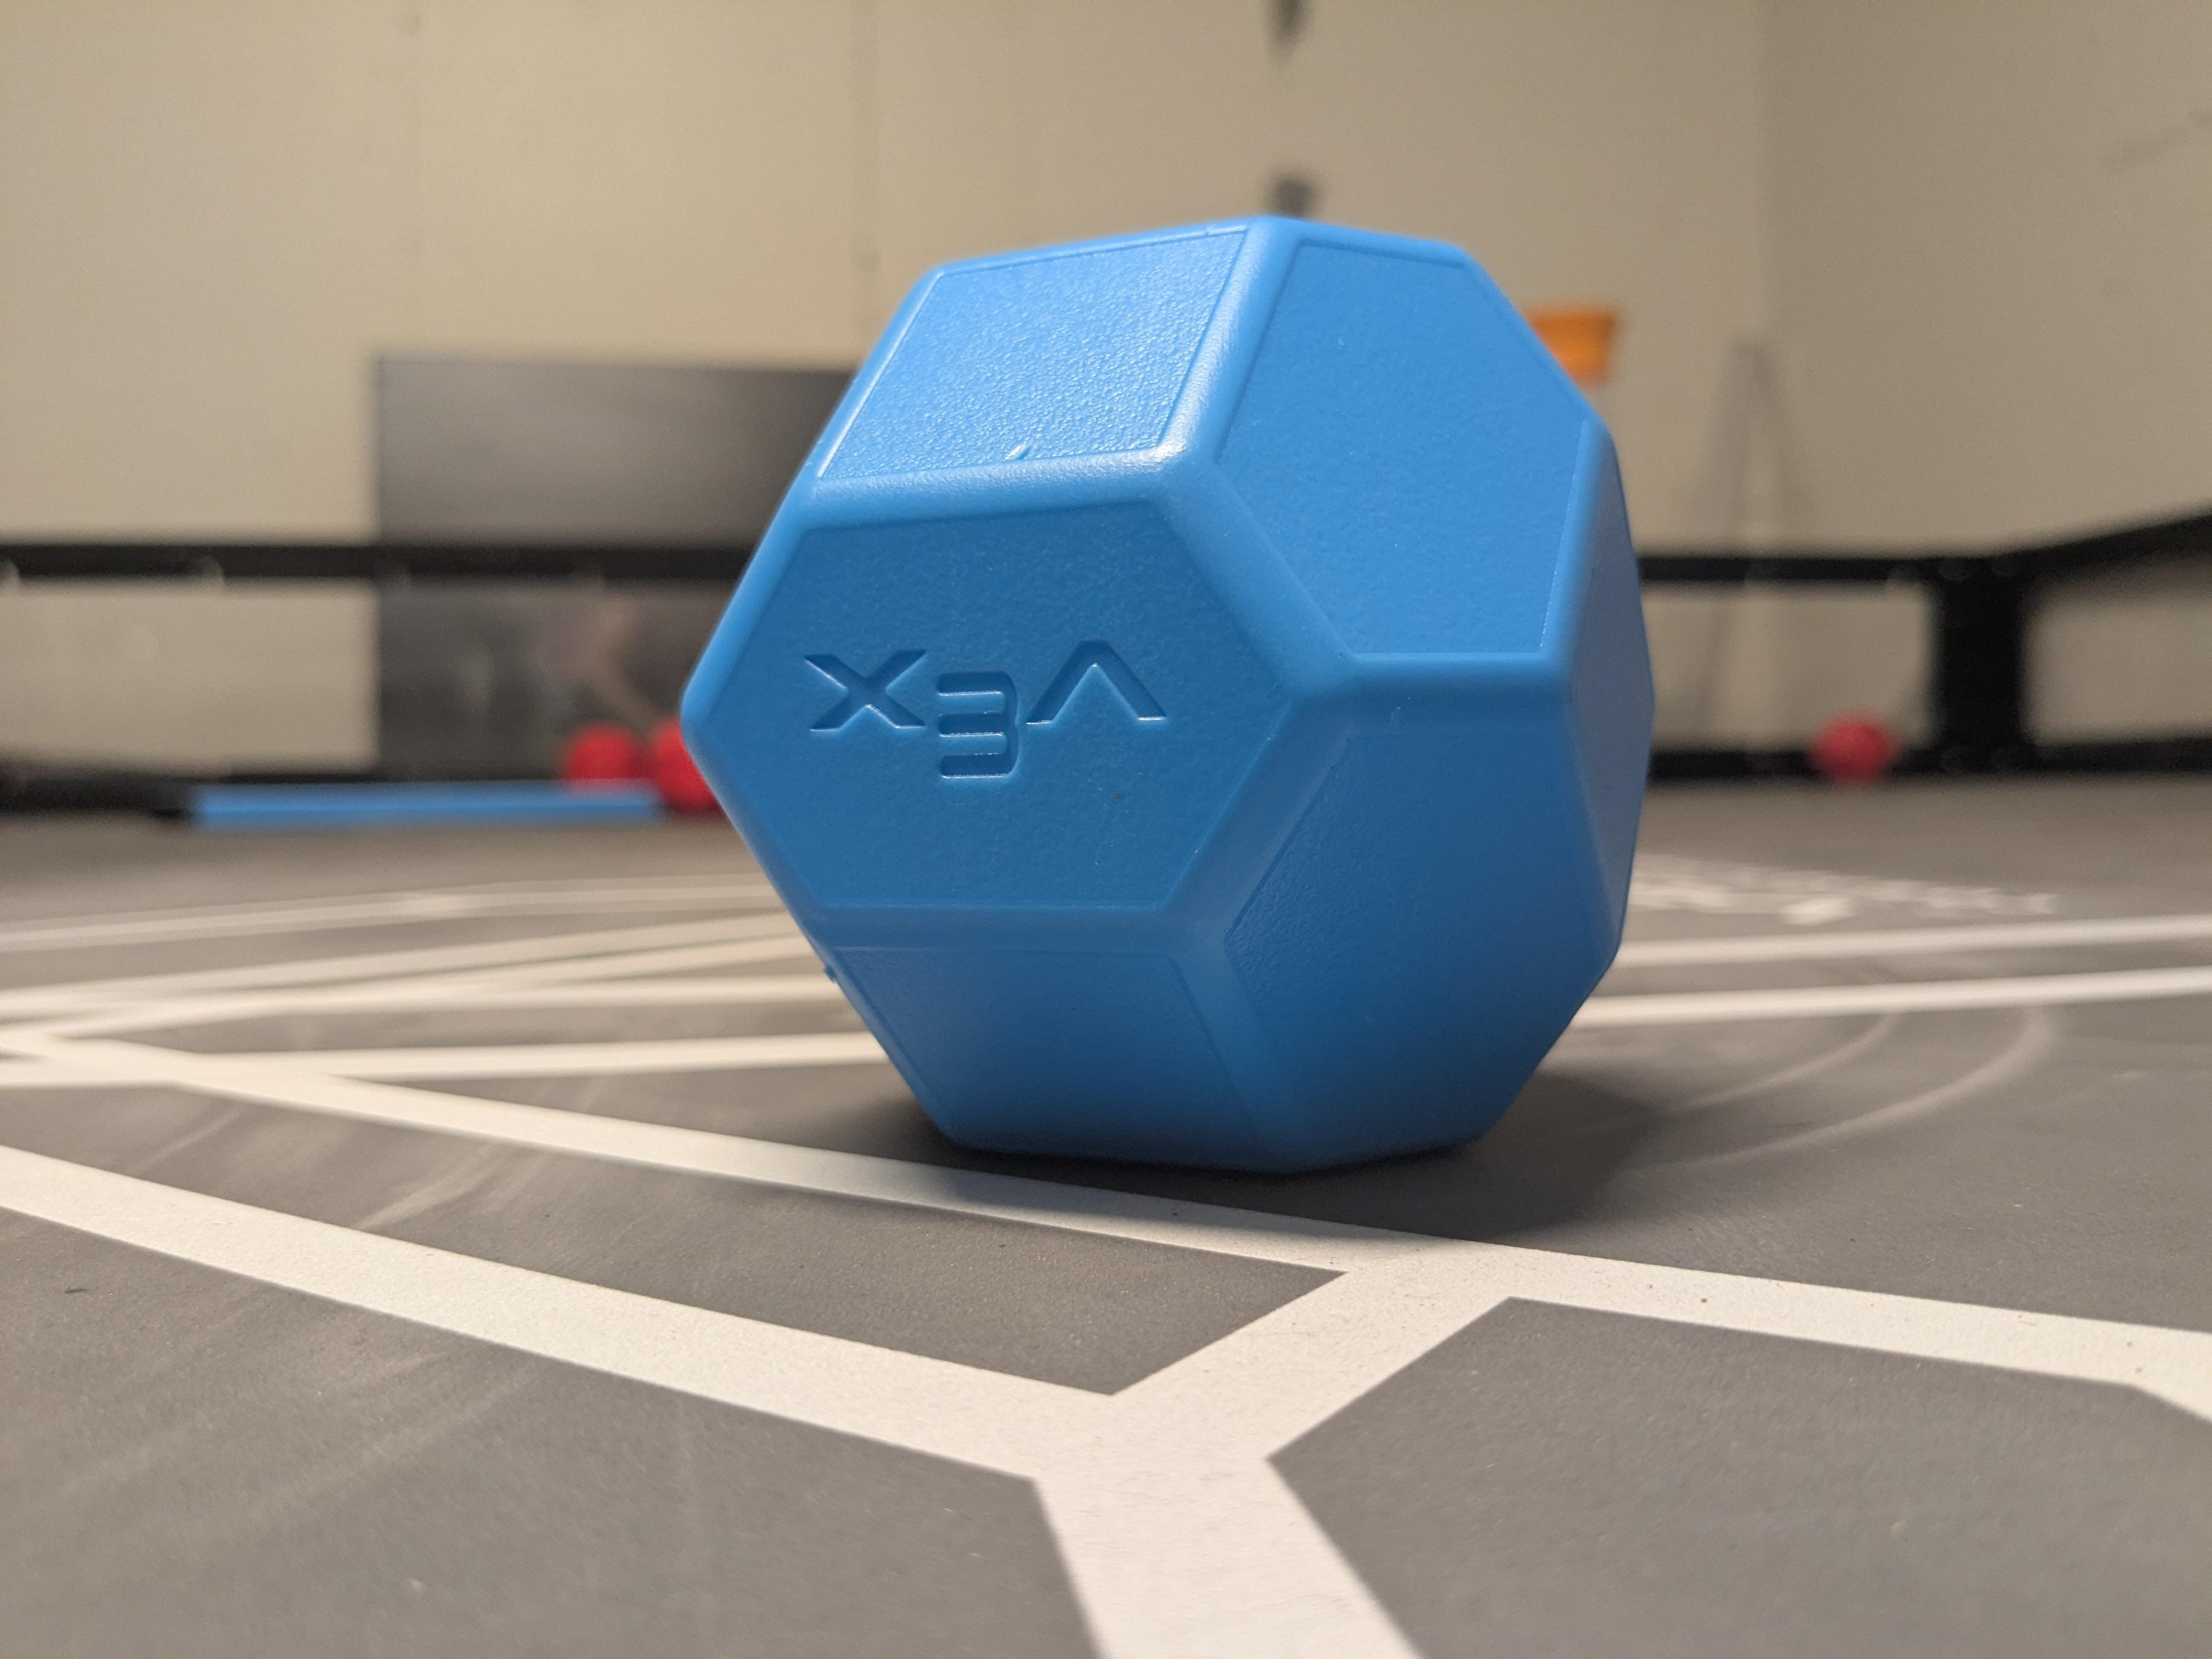Vex-Pieces-BLUE: (686, 216, 1662, 1187)
